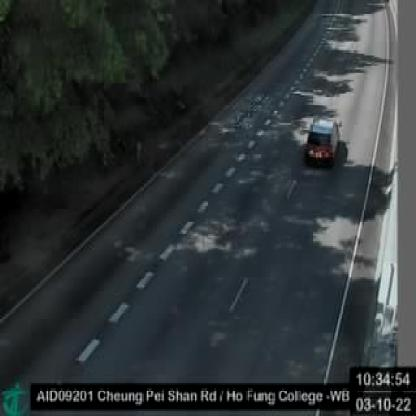Car: (306, 114, 340, 162)
